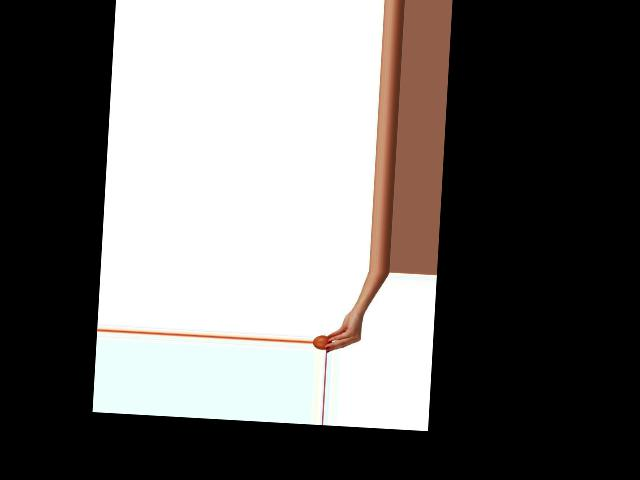egg: (313, 334, 331, 350)
